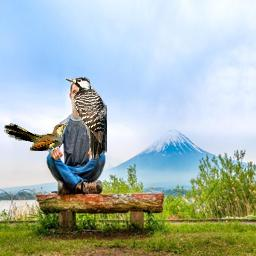Cuckoo: (4, 123, 68, 151)
Woodpecker: (65, 77, 107, 161)
